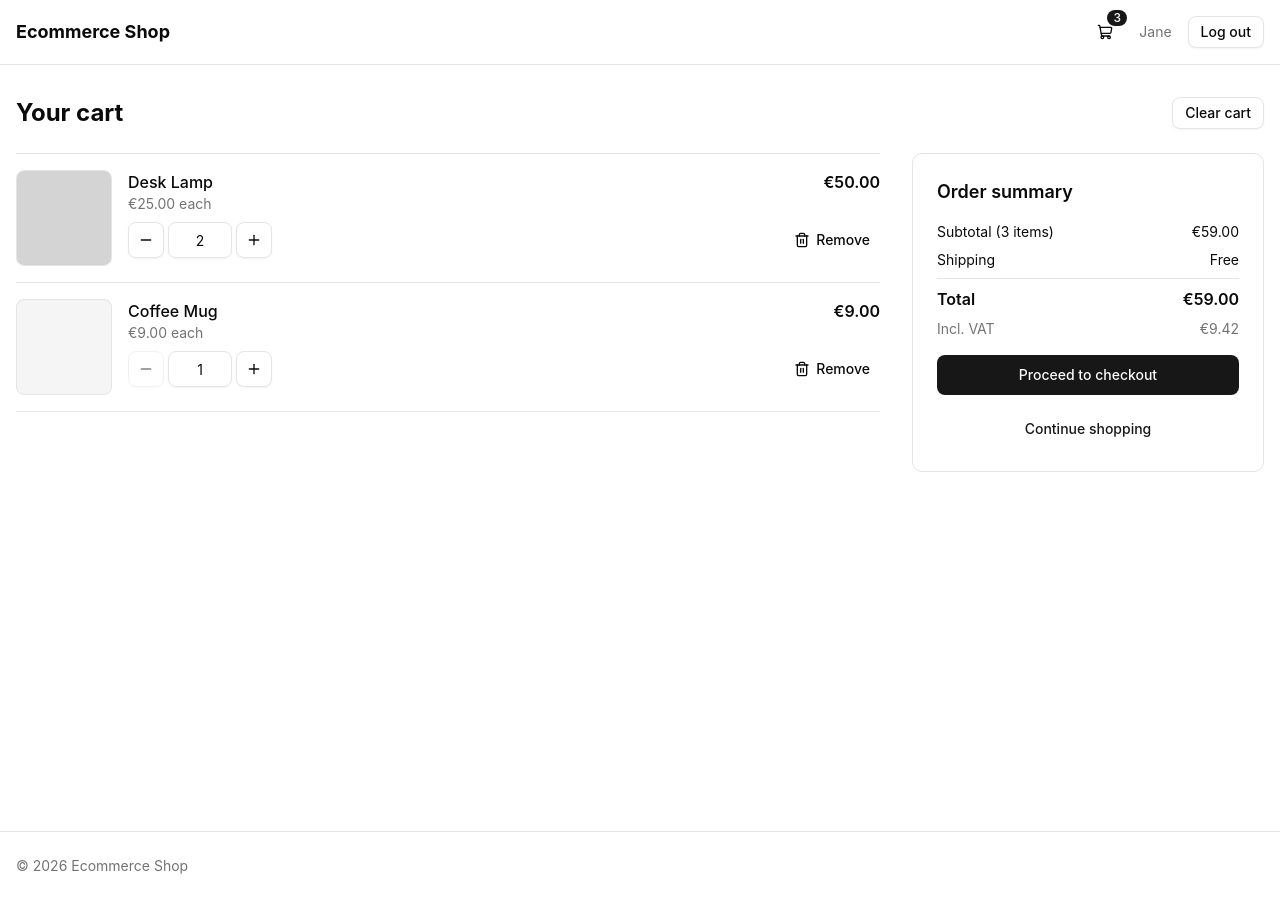
cart page › removes an item
Click the button with aria-label "Remove Coffee Mug". click: (832, 369)
box: [784,353,880,385]
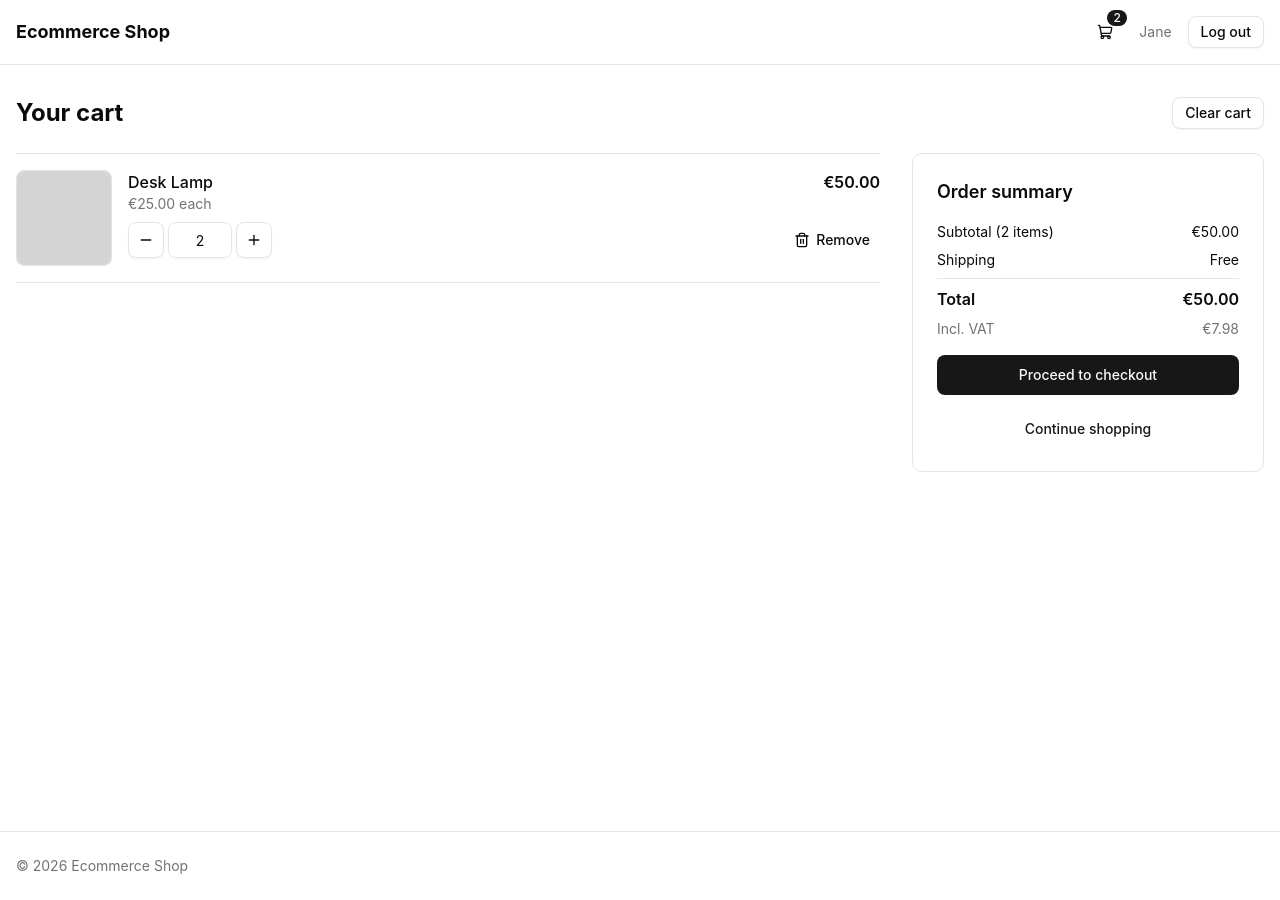
Expected: the link "Coffee Mug" is gone
Expected: the text "Subtotal (2 items)" is shown, [937,222,1054,242]
